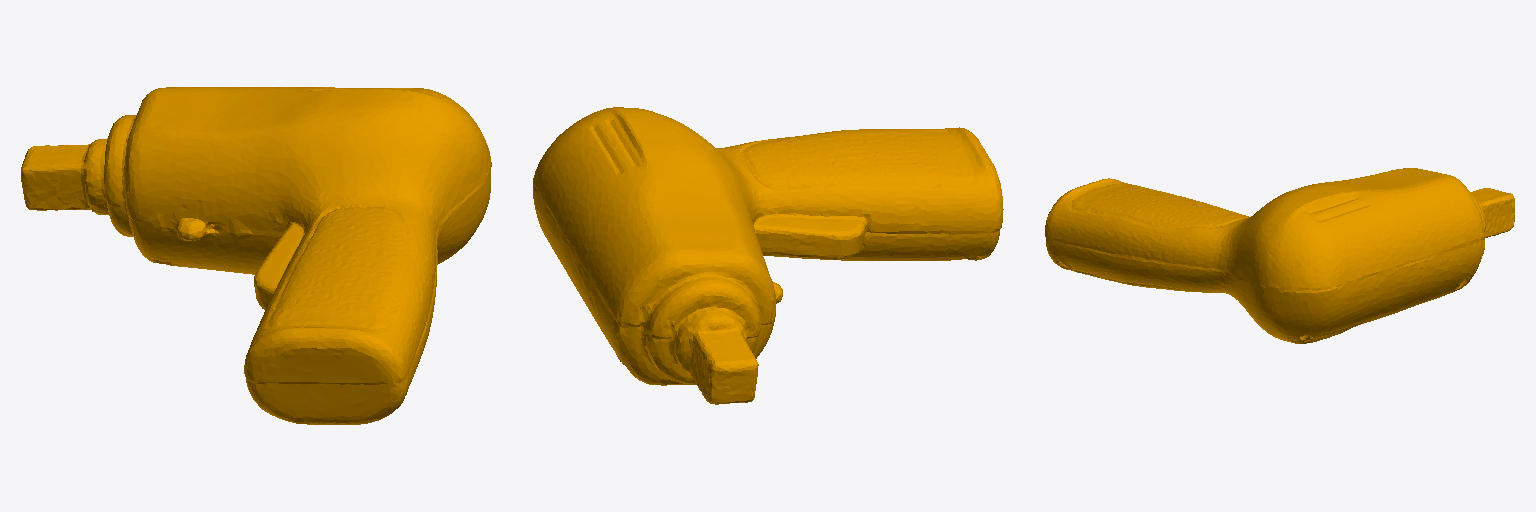
The robot description file, URDF, robot "072-b_toy_airplane":
<?xml version="1.0" ?>
<robot name="072-b_toy_airplane">
  <link name="base_link">
    <inertial>
      <mass value="0.054295143780662976"/>
      <origin rpy="-1.26831  1.4078   0.18238" xyz="-0.05818  0.00841  0.02394"/>
      <inertia ixx="0.00012071257899987392" ixy="-1.8797747270587446e-20" ixz="2.84766934765181e-20" iyy="8.958664403838825e-05" iyz="3.143905896634322e-21" izz="4.795387345246836e-05"/>
    </inertial>
    <collision name="072-b_toy_airplane__collision">
      <origin rpy="0 0 0" xyz="0 0 0"/>
      <geometry>
        <mesh filename="./072-b_toy_airplane_250_collision.stl" scale="1.0 1.0 1.0"/>
      </geometry>
    </collision>
    <visual name="072-b_toy_airplane__visual">
      <origin rpy="0 0 0" xyz="0 0 0"/>
      <geometry>
        <mesh filename="./textured.obj" scale="1.0 1.0 1.0"/>
      </geometry>
    </visual>
  </link>
</robot>

--- Render facts (derived) ---
3 views of the same robot in one strip: view 1: azimuth 30°, elevation 25°; view 2: azimuth 150°, elevation 25°; view 3: azimuth 270°, elevation 25° (orthographic).
Model 072-b_toy_airplane with 1 links and 0 joints (none), rooted at base_link, posed every joint at zero.
Links seen in each view (by area): view 1: base_link; view 2: base_link; view 3: base_link.
Link boxes in pixels (x1,y1,x2,y2): base_link: (21, 87, 491, 424); base_link: (533, 107, 1003, 404); base_link: (1045, 168, 1514, 343).
Size in the robot's own frame: 0.1203 by 0.1817 by 0.0593 metres.
1 mesh visuals loaded from 1 distinct referenced files (1 OBJ).